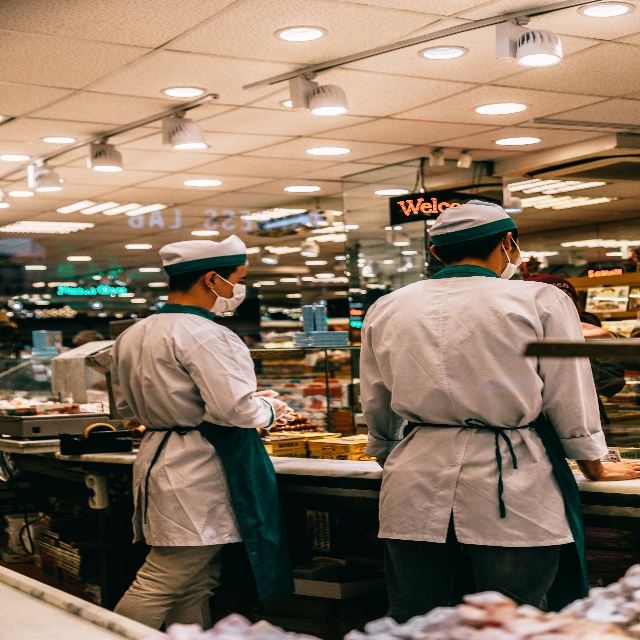Guantes: (249, 389, 295, 425), (266, 396, 286, 421)
Mascara: (209, 270, 246, 314)
Sin_guantes: (600, 459, 640, 482)
